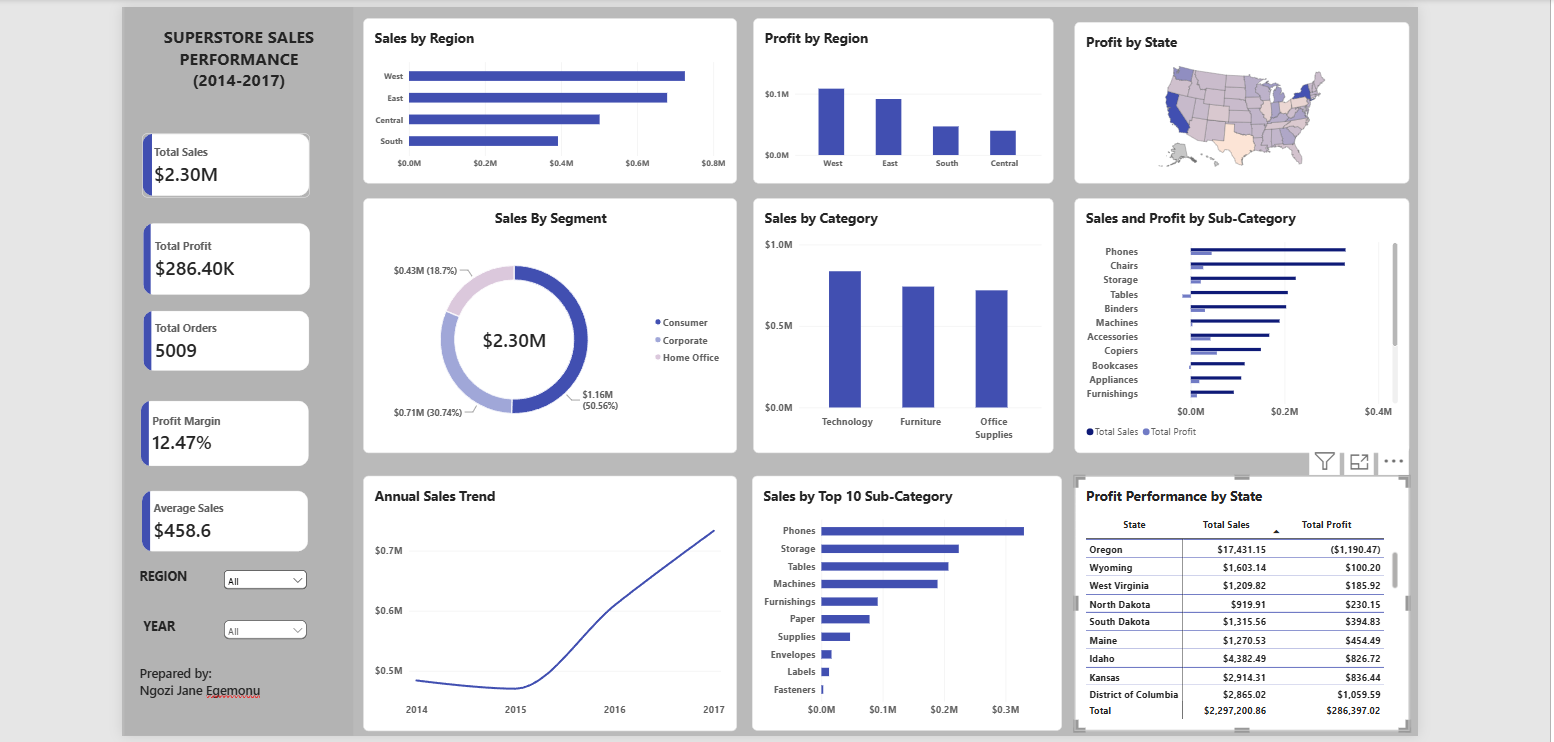

This screenshot's page, from the dashboard's own definition file:
{"tool":"powerbi","page":{"name":"SUPERSTORE SALES DASHBOARD","canvas":[1920,1080],"ordinal":0},"visuals":[{"type":"shape","box":[3.7,0,338.9,1079.6],"z":0},{"type":"cardVisual","fields":{"Data":["KPIS MEASURES.Total Sales"]},"box":[29.3,186.4,249.2,94.9],"z":1000},{"type":"cardVisual","fields":{"Data":["KPIS MEASURES.Profit Margin"]},"box":[26.9,582.7,249.7,97.7],"z":2000},{"type":"cardVisual","fields":{"Data":["KPIS MEASURES.Total Profit"]},"box":[31.2,320.3,247.9,106.8],"z":3000},{"type":"cardVisual","fields":{"Data":["KPIS MEASURES.Total Orders"]},"box":[32.1,450,246.4,89.3],"z":4000},{"type":"textbox","box":[3.6,28.6,339.3,110.7],"z":5000},{"type":"slicer","fields":{"Values":["Sample - Superstore.Region"]},"box":[146.4,830.4,132.1,61],"z":6000},{"type":"slicer","fields":{"Values":["Date.Year"]},"box":[146.4,903.6,132.1,55.4],"z":7000},{"type":"cardVisual","fields":{"Data":["KPIS MEASURES.Average Sales"]},"box":[30.5,716.6,246.1,90.5],"z":8000},{"type":"donutChart","title":" Sales By Segment","fields":{"Category":["Sample - Superstore.Segment"],"Y":["KPIS MEASURES.Total Sales"]},"box":[357.4,283.3,553.7,377.8],"z":9000},{"type":"shapeMap","title":"Profit by State","fields":{"Category":["Sample - Superstore.State"],"Value":["KPIS MEASURES.Total Profit"]},"box":[1411.1,22.2,496.3,238.9],"z":10000},{"type":"clusteredBarChart","title":"Sales by Region","fields":{"Category":["Sample - Superstore.Region"],"Y":["KPIS MEASURES.Total Sales"]},"box":[357.4,16.7,553.7,244.4],"z":11000},{"type":"textbox","box":[32.1,903.6,101.8,55.4],"z":12000},{"type":"textbox","box":[26.8,830.4,107.1,41.1],"z":13000},{"type":"clusteredColumnChart","title":" Profit by Region","fields":{"Category":["Sample - Superstore.Region"],"Y":["KPIS MEASURES.Total Profit"]},"box":[935.2,16.7,444.4,244.4],"z":14000},{"type":"clusteredColumnChart","title":" Sales by Category","fields":{"Category":["Sample - Superstore.Category"],"Y":["KPIS MEASURES.Total Sales"]},"box":[935.2,283.3,444.4,377.8],"z":15000},{"type":"lineChart","title":"Annual Sales Trend","fields":{"Category":["Date.Year"],"Y":["KPIS MEASURES.Total Sales"]},"box":[357.1,694.6,553.6,378.6],"z":16000},{"type":"clusteredBarChart","title":"Sales and Profit by Sub-Category","fields":{"Category":["Sample - Superstore.Sub-Category"],"Y":["KPIS MEASURES.Total Sales","KPIS MEASURES.Total Profit"]},"box":[1411.1,283.3,496.3,377.8],"z":17000},{"type":"clusteredBarChart","title":"Sales by Top 10  Sub-Category","fields":{"Category":["Sample - Superstore.Sub-Category"],"Y":["KPIS MEASURES.Total Sales"]},"box":[933.3,694.4,459.3,377.8],"z":18000},{"type":"pivotTable","title":"Profit Performance by State","fields":{"Rows":["Sample - Superstore.State"],"Values":["KPIS MEASURES.Total Sales","KPIS MEASURES.Total Profit"]},"box":[1411.1,694.4,496.3,377.8],"z":19000},{"type":"textbox","box":[25.9,974.1,250,83.3],"z":19001}]}

Visuals, with their boxes on the page's 1920x1080 design canvas (x1, y1, x2, y2). These are canvas units, not pixel positions in the 1554x742 screenshot, which may show the page scaled, cropped or inside an application window:
shape: BBox(4, 0, 343, 1080)
cardVisual - KPIS MEASURES.Total Sales: BBox(29, 186, 278, 281)
cardVisual - KPIS MEASURES.Profit Margin: BBox(27, 583, 277, 680)
cardVisual - KPIS MEASURES.Total Profit: BBox(31, 320, 279, 427)
cardVisual - KPIS MEASURES.Total Orders: BBox(32, 450, 278, 539)
textbox: BBox(4, 29, 343, 139)
slicer - Sample - Superstore.Region: BBox(146, 830, 278, 891)
slicer - Date.Year: BBox(146, 904, 278, 959)
cardVisual - KPIS MEASURES.Average Sales: BBox(30, 717, 277, 807)
" Sales By Segment" donutChart: BBox(357, 283, 911, 661)
"Profit by State" shapeMap: BBox(1411, 22, 1907, 261)
"Sales by Region" clusteredBarChart: BBox(357, 17, 911, 261)
textbox: BBox(32, 904, 134, 959)
textbox: BBox(27, 830, 134, 872)
" Profit by Region" clusteredColumnChart: BBox(935, 17, 1380, 261)
" Sales by Category" clusteredColumnChart: BBox(935, 283, 1380, 661)
"Annual Sales Trend" lineChart: BBox(357, 695, 911, 1073)
"Sales and Profit by Sub-Category" clusteredBarChart: BBox(1411, 283, 1907, 661)
"Sales by Top 10  Sub-Category" clusteredBarChart: BBox(933, 694, 1393, 1072)
"Profit Performance by State" pivotTable: BBox(1411, 694, 1907, 1072)
textbox: BBox(26, 974, 276, 1057)
